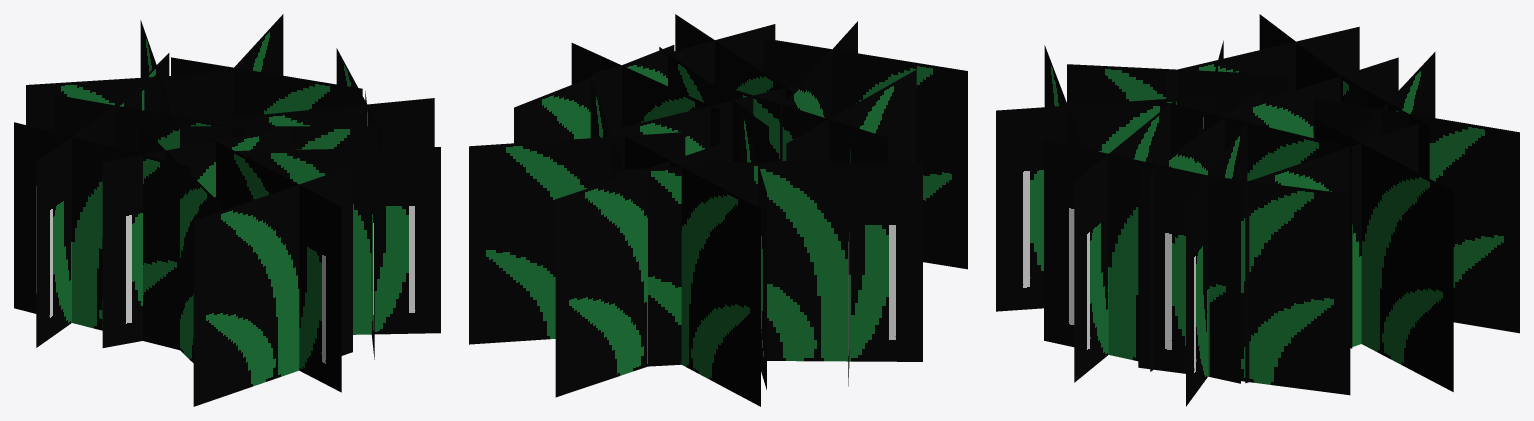
File: Montículo chico cesped C1.fbx
3 renders of one model, left to right at view 1: azimuth 30°, elevation 25°; view 2: azimuth 150°, elevation 25°; view 3: azimuth 270°, elevation 25°, orthographic. The views are drawn at different scales.
Parts seen in each view (by area): view 1: Cesped__10_, Cesped__6_, Cesped__2__8, Cesped__2__9, Cesped__7_, Cesped__9_, Cesped__4_, Cesped__2__4, Cesped__8_, Cesped__2__2, Cesped__2__6, Cesped__2_ (+5 smaller); view 2: Cesped__9_, Cesped__5_, Cesped__2__3, Cesped__4_, Cesped__10_, Cesped__3_, Cesped__2_, Cesped__2__6, Cesped__2__7, Cesped__7_, Cesped__8_, Cesped__2__5 (+5 smaller); view 3: Cesped__2__7, Cesped__2__5, Cesped__5_, Cesped__2__3, Cesped__2__9, Cesped__6_, Cesped__2_, Cesped__2__4, Cesped__2__6, Cesped__8_, Cesped__2__2, Cesped__2__8 (+4 smaller).
Part boxes in pixels (x1,y1,x2,y2): Cesped__10_: (193,166,352,406); Cesped__6_: (235,147,440,334); Cesped__2__8: (14,122,190,350); Cesped__2__9: (212,139,341,392); Cesped__7_: (102,127,290,347); Cesped__9_: (36,87,141,347); Cesped__4_: (26,72,229,131); Cesped__2__4: (171,57,362,126); Cesped__8_: (234,98,434,147); Cesped__2__2: (54,94,243,153); Cesped__2__6: (139,125,220,362); Cesped__2_: (180,126,385,149); Cesped__9_: (704,162,922,361); Cesped__5_: (469,132,685,344); Cesped__2__3: (555,142,726,397); Cesped__4_: (625,136,760,406); Cesped__10_: (763,38,967,269); Cesped__3_: (614,158,830,366); Cesped__2_: (607,47,796,162); Cesped__2__6: (786,69,916,163); Cesped__2__7: (514,45,674,143); Cesped__7_: (712,83,888,163); Cesped__8_: (571,43,720,146); Cesped__2__5: (591,24,775,127); Cesped__2__7: (1138,166,1350,395); Cesped__2__5: (1044,139,1240,383); Cesped__5_: (1314,118,1453,391); Cesped__2__3: (1313,98,1519,333); Cesped__2__9: (996,95,1214,311); Cesped__6_: (1074,99,1176,382); Cesped__2_: (1150,90,1352,371); Cesped__2__4: (1245,124,1418,383); Cesped__2__6: (1067,64,1287,115); Cesped__8_: (1186,117,1251,406); Cesped__2__2: (1222,57,1398,138); Cesped__2__8: (1166,26,1359,98).
Size of the model in its own units: 131 by 64.05 by 151.
Materials: 1 (1 with a texture image).
